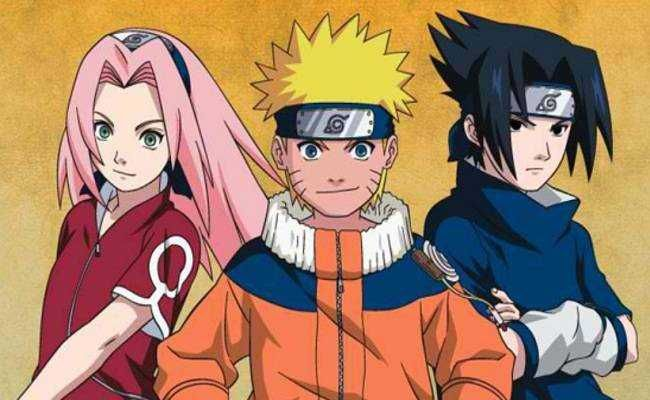naruto: (271, 100, 402, 221)
sakura: (66, 21, 199, 198)
sasuke: (462, 76, 580, 192)
